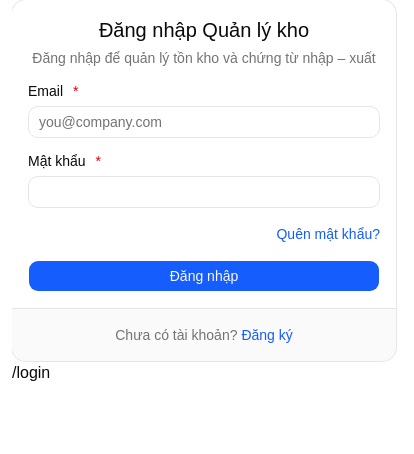
Test: LoginPage › shows an error for wrong credentials
Type "staff@inventory.local" into the field labelled "Email" at (204, 122), box [28,106,380,138]
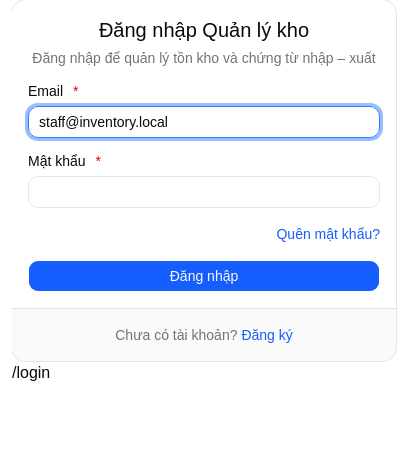
Type "Wrong@123" into the password field labelled "Mật khẩu" at (204, 192), box [28,176,380,208]
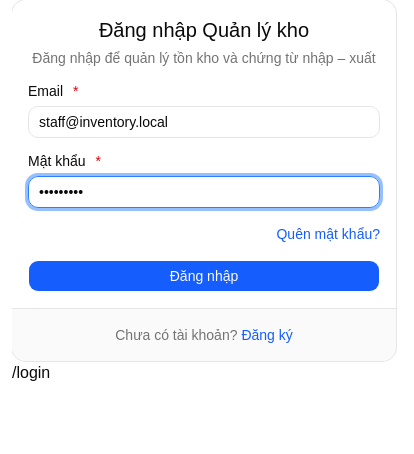
Click the button "Đăng nhập" at (204, 276), box [28,260,380,292]
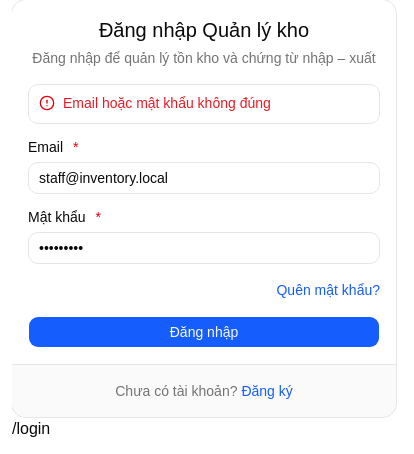
Expected: the text "Email hoặc mật khẩu không đúng" is shown, [63,95,271,111]
